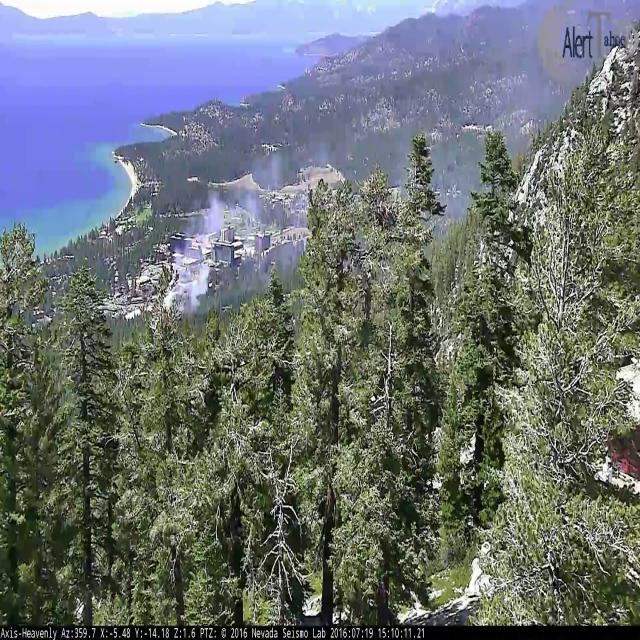smoke: (152, 122, 342, 326)
